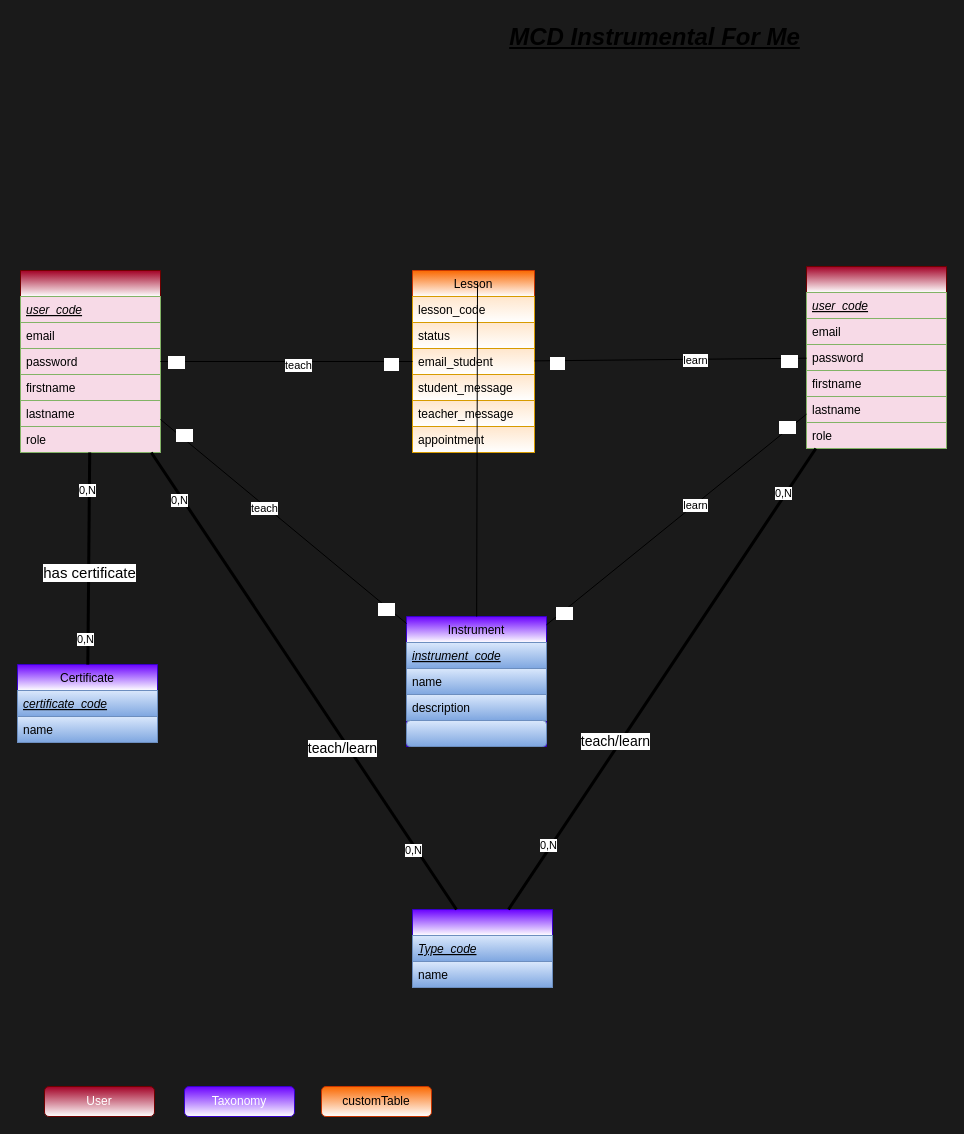
Some shapes in this 964 by 1134 pixel diagram are drawn without their labels. Each missing label, with the box of its shape:
Music_style: (412, 908, 552, 988)
picture: (406, 720, 546, 746)
User_student: (806, 266, 946, 448)
User_teacher: (20, 270, 160, 452)
